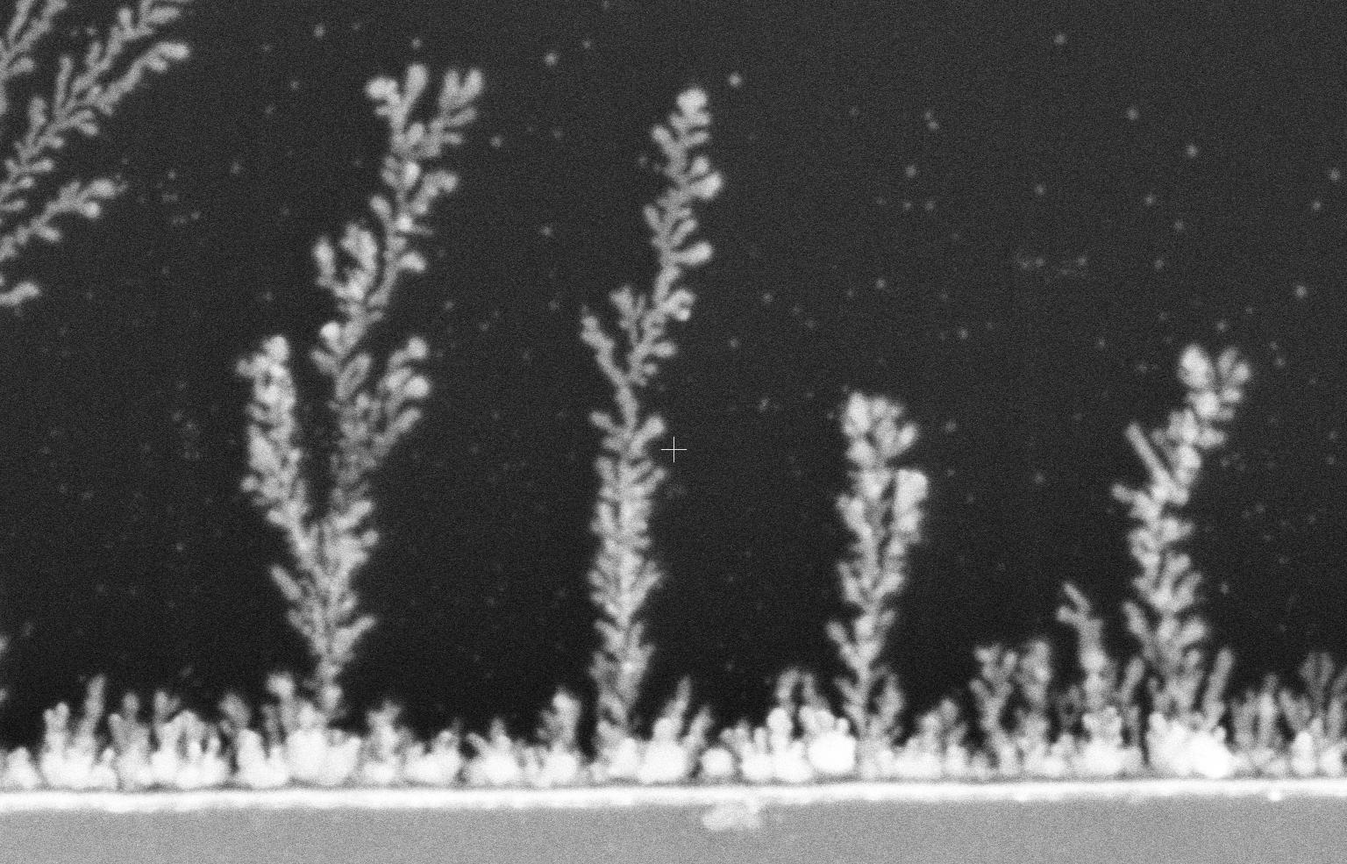Dendrite: (220, 63, 482, 788), (469, 89, 722, 787), (696, 390, 966, 780), (1113, 345, 1346, 778), (0, 0, 191, 311), (899, 582, 1144, 778), (0, 676, 292, 789), (357, 703, 587, 788), (0, 0, 73, 126), (0, 623, 32, 709)
